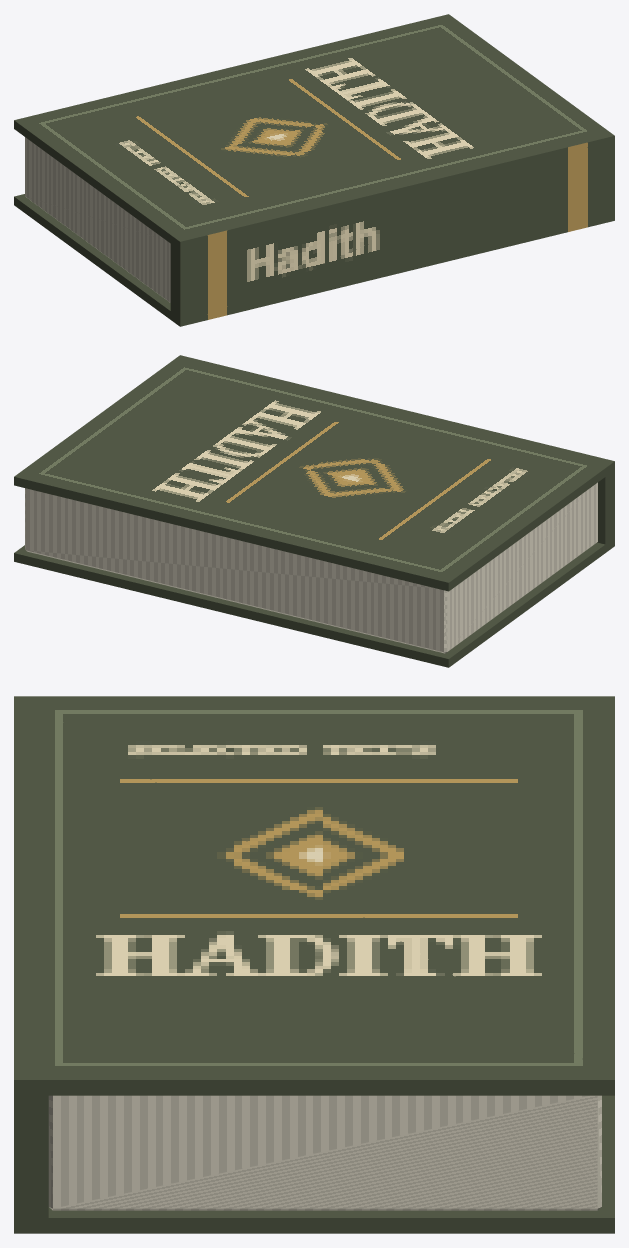
File: holybook_hadith.glb
3 renders of one model, top to bottom at view 1: azimuth 30°, elevation 25°; view 2: azimuth 150°, elevation 25°; view 3: azimuth 270°, elevation 25°, orthographic. The views are drawn at different scales.
Visible parts, largest first — view 1: block_front, block_spine, block_pages, block_back; view 2: block_front, block_pages, block_back, block_spine; view 3: block_front, block_pages, block_spine, block_back.
Part boxes in pixels (x1,y1,x2,y2): block_front: (14, 14, 604, 247); block_spine: (170, 129, 614, 326); block_pages: (25, 137, 170, 302); block_back: (14, 194, 177, 324); block_front: (14, 357, 612, 591); block_pages: (25, 482, 597, 653); block_back: (14, 539, 612, 667); block_spine: (172, 355, 614, 547); block_front: (22, 696, 614, 1095); block_pages: (48, 1095, 601, 1210); block_spine: (14, 696, 48, 1233); block_back: (22, 1095, 614, 1233).
Size of the model in its own units: 0.247 by 0.0461 by 0.1635.
1 material, 1 textured.
